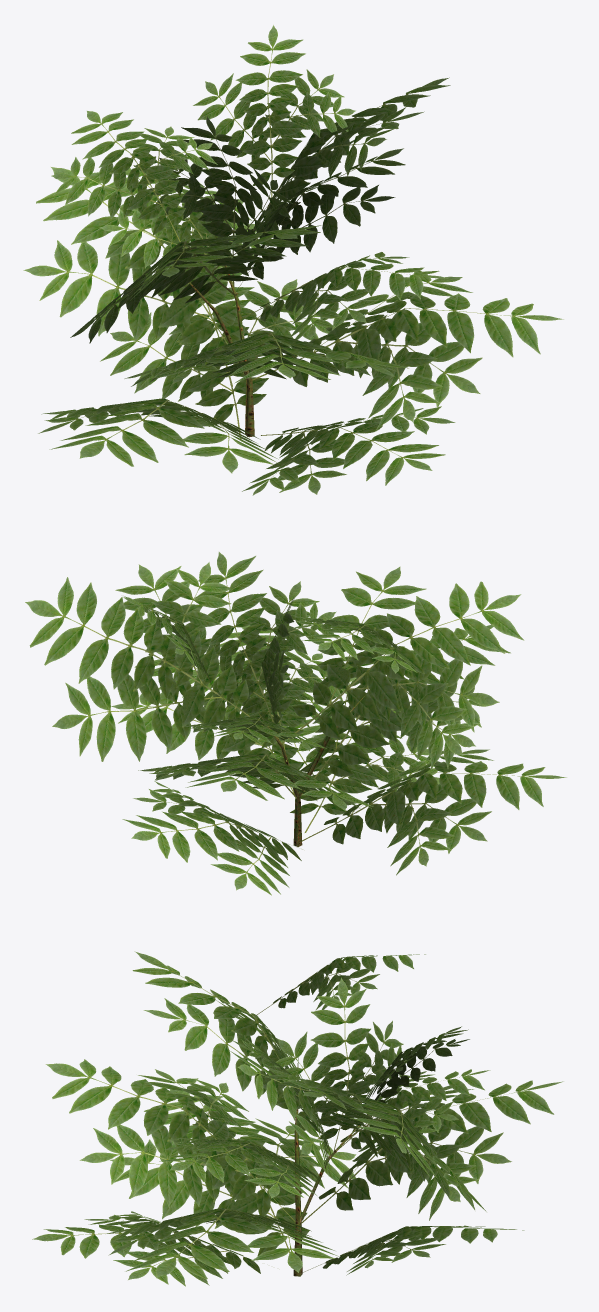
The model's file is bush02_lod01.FBX.
3 renders of one model, top to bottom at view 1: azimuth 30°, elevation 25°; view 2: azimuth 150°, elevation 25°; view 3: azimuth 270°, elevation 25°, orthographic. The views are drawn at different scales.
Parts seen in each view (by area): view 1: bush02_lod01; view 2: bush02_lod01; view 3: bush02_lod01.
Boxes of the visible parts, x1,y1,x2,y2 form: bush02_lod01: [23, 25, 563, 495]; bush02_lod01: [25, 552, 566, 895]; bush02_lod01: [32, 951, 563, 1286].
Bounding box in the file's own units: 232 × 139 × 230.
Materials: 1 (1 with a texture image).
